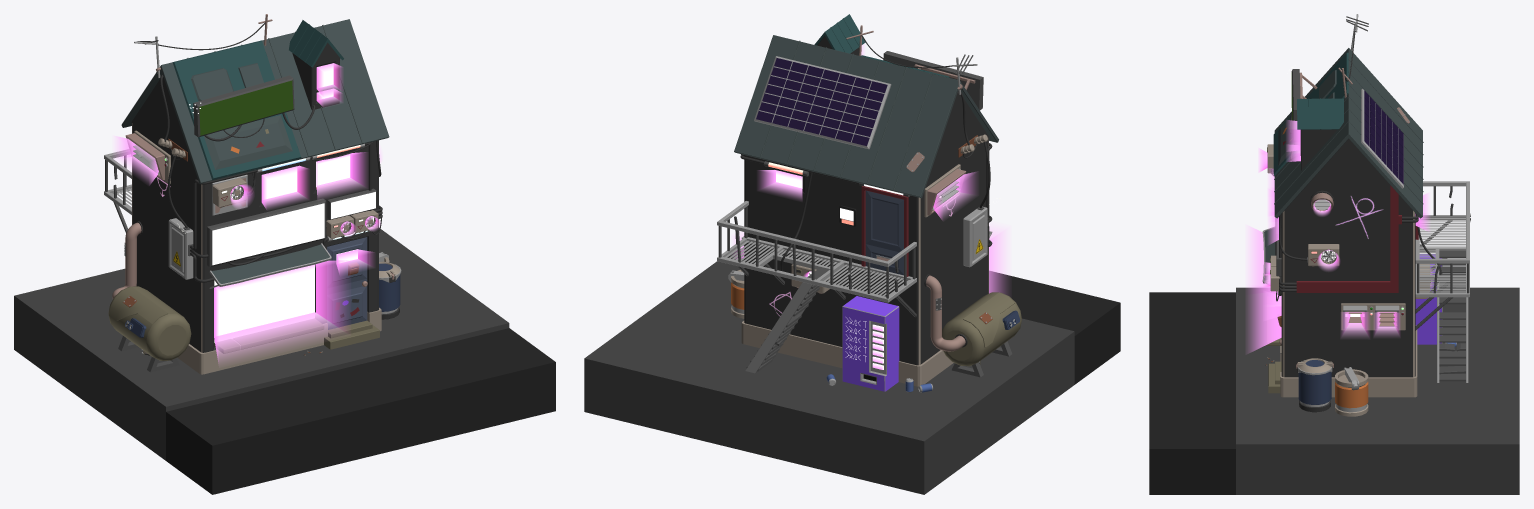
The picture shows the model from 3 angles, left to right: view 1: azimuth 30°, elevation 25°; view 2: azimuth 150°, elevation 25°; view 3: azimuth 270°, elevation 25°; orthographic projection. The views are drawn at different scales.
Parts seen in each view (by area): view 1: Plane.030_523, Cube.172_475, Cube.169_472, Cube.170_473, fade_351, Cube.176_479, Cube.185_488, Cube.189_492, Cube.174_477, Cube.151_382, Cube.178_481, Cube.195_498 (+19 smaller); view 2: Plane.030_523, Cube.169_472, Cube.172_475, Cube.170_473, Cube.192_495, Cube.194_497, Cube.195_498, Cube.163_466, Cube.196_499, Cylinder.123_502, Cube.173_476, Cube.164_467 (+15 smaller); view 3: Plane.030_523, Cube.170_473, Cube.172_475, Cube.169_472, Cube.173_476, Cube.145_376, fade_351, Cube.192_495, Cube.164_467, Cube.181_484, Cylinder.141_710, Cube.195_498 (+20 smaller).
Part boxes in pixels (x1,y1,x2,y2): Plane.030_523: (14, 228, 555, 494); Cube.172_475: (132, 123, 378, 264); Cube.169_472: (121, 19, 389, 183); Cube.170_473: (132, 214, 379, 352); fade_351: (214, 260, 347, 363); Cube.176_479: (207, 198, 325, 266); Cube.185_488: (214, 265, 314, 342); Cube.189_492: (191, 63, 292, 169); Cube.174_477: (172, 40, 301, 179); Cube.151_382: (193, 75, 294, 137); Cube.178_481: (327, 237, 367, 329); Cube.195_498: (177, 307, 381, 374); Plane.030_523: (584, 248, 1120, 494); Cube.169_472: (734, 35, 998, 198); Cube.172_475: (744, 138, 988, 277); Cube.170_473: (744, 236, 988, 365); Cube.192_495: (754, 56, 891, 149); Cube.194_497: (842, 296, 899, 391); Cube.195_498: (741, 321, 953, 386); Cube.163_466: (717, 237, 916, 302); Cube.196_499: (865, 190, 903, 275); Cylinder.123_502: (942, 292, 1021, 366); Cube.173_476: (927, 92, 988, 182); Cube.164_467: (725, 240, 909, 295); Plane.030_523: (1149, 287, 1519, 494); Cube.170_473: (1268, 294, 1415, 393); Cube.172_475: (1281, 210, 1415, 294); Cube.169_472: (1274, 48, 1423, 218); Cube.173_476: (1285, 139, 1412, 209); Cube.145_376: (1439, 250, 1465, 381); fade_351: (1248, 226, 1281, 352); Cube.192_495: (1361, 89, 1403, 188); Cube.164_467: (1419, 218, 1465, 291); Cube.181_484: (1296, 185, 1401, 292); Cylinder.141_710: (1296, 358, 1333, 412); Cube.195_498: (1280, 325, 1417, 397).
Size of the model in its own units: 7.03 by 8.22 by 7.03.
38 materials, 6 textured.
